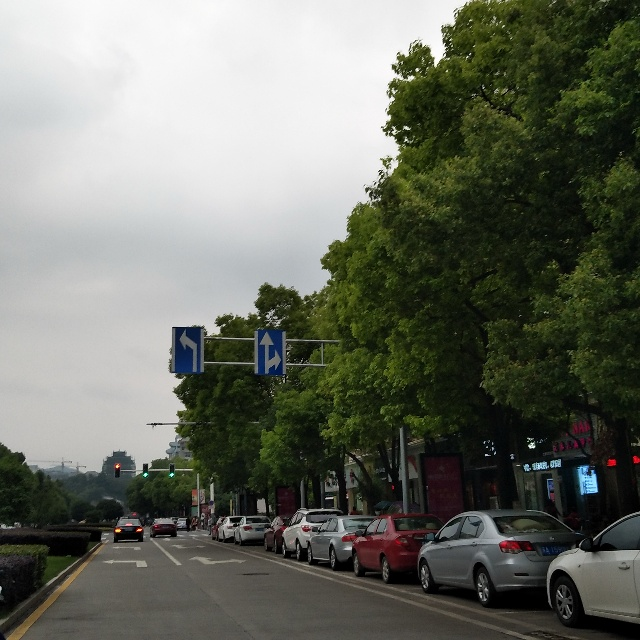left: (171, 326, 205, 374)
